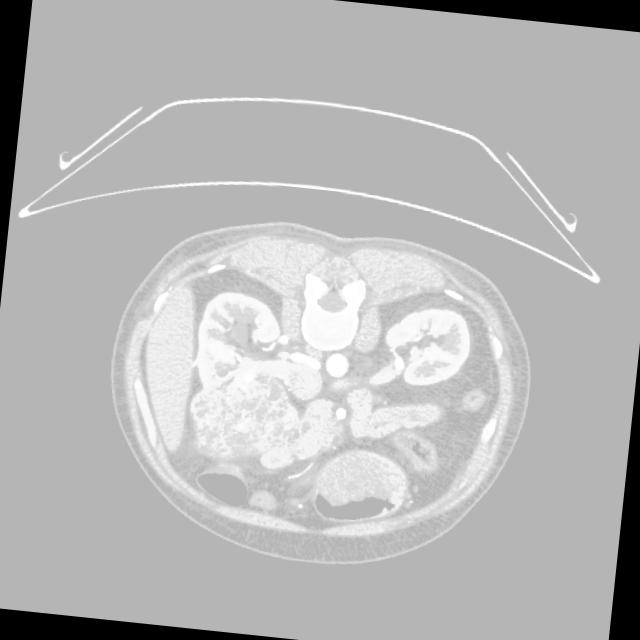TUMOR: (130, 280, 432, 552)
